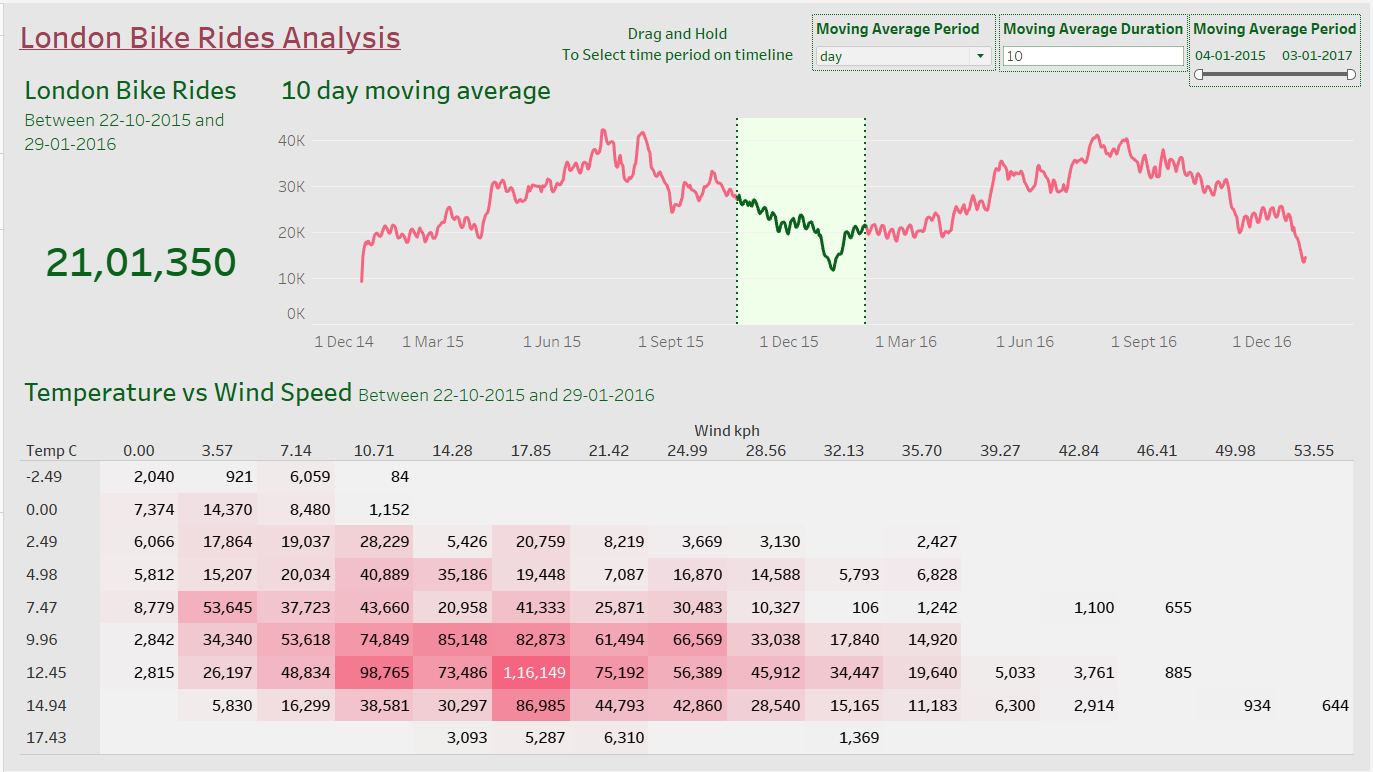

The dashboard page shown, as its layout file describes it:
{"tool":"tableau","page":{"name":"Dashboard 1","canvas":[1366,768],"ordinal":0},"visuals":[{"type":"title","box":[8,8,1350,49]},{"type":"parameter","param":"[Parameters].[Parameter 1]","box":[808,11,184,57]},{"type":"parameter","param":"[Parameters].[Parameter 2]","box":[995,11,189,58]},{"type":"filter","title":"Moving Average","param":"[federated.009aq2s0qbhtbi12j41ha05el5rv].[none:Calculation_1534601616478445568:q","box":[1185,11,172,73]},{"type":"text","box":[547,13,253,56]},{"type":"worksheet","title":"Total Rides","mark":"Automatic","box":[8,57,257,301.9]},{"type":"worksheet","title":"Moving Average","mark":"Automatic","rows":["Calculation1"],"cols":["Calculation_1534601616478445568"],"box":[265,57,1093,301.9]},{"type":"worksheet","title":"HeatMap","mark":"Square","rows":["temp real C (bin)"],"cols":["Wind Speed Kph (bin)"],"box":[8,358.9,1350,401]}]}

Visuals, with their boxes in screenshot pixels (x1, y1, x2, y2), scaled from the page's 1366x768 canvas onto the 1373x772 screenshot:
title: (x1=8, y1=8, x2=1365, y2=57)
parameter: (x1=812, y1=11, x2=997, y2=68)
parameter: (x1=1000, y1=11, x2=1190, y2=69)
"Moving Average" filter: (x1=1191, y1=11, x2=1364, y2=84)
text: (x1=550, y1=13, x2=804, y2=69)
"Total Rides" worksheet: (x1=8, y1=57, x2=266, y2=361)
"Moving Average" worksheet: (x1=266, y1=57, x2=1365, y2=361)
"HeatMap" worksheet (Square marks): (x1=8, y1=361, x2=1365, y2=764)
